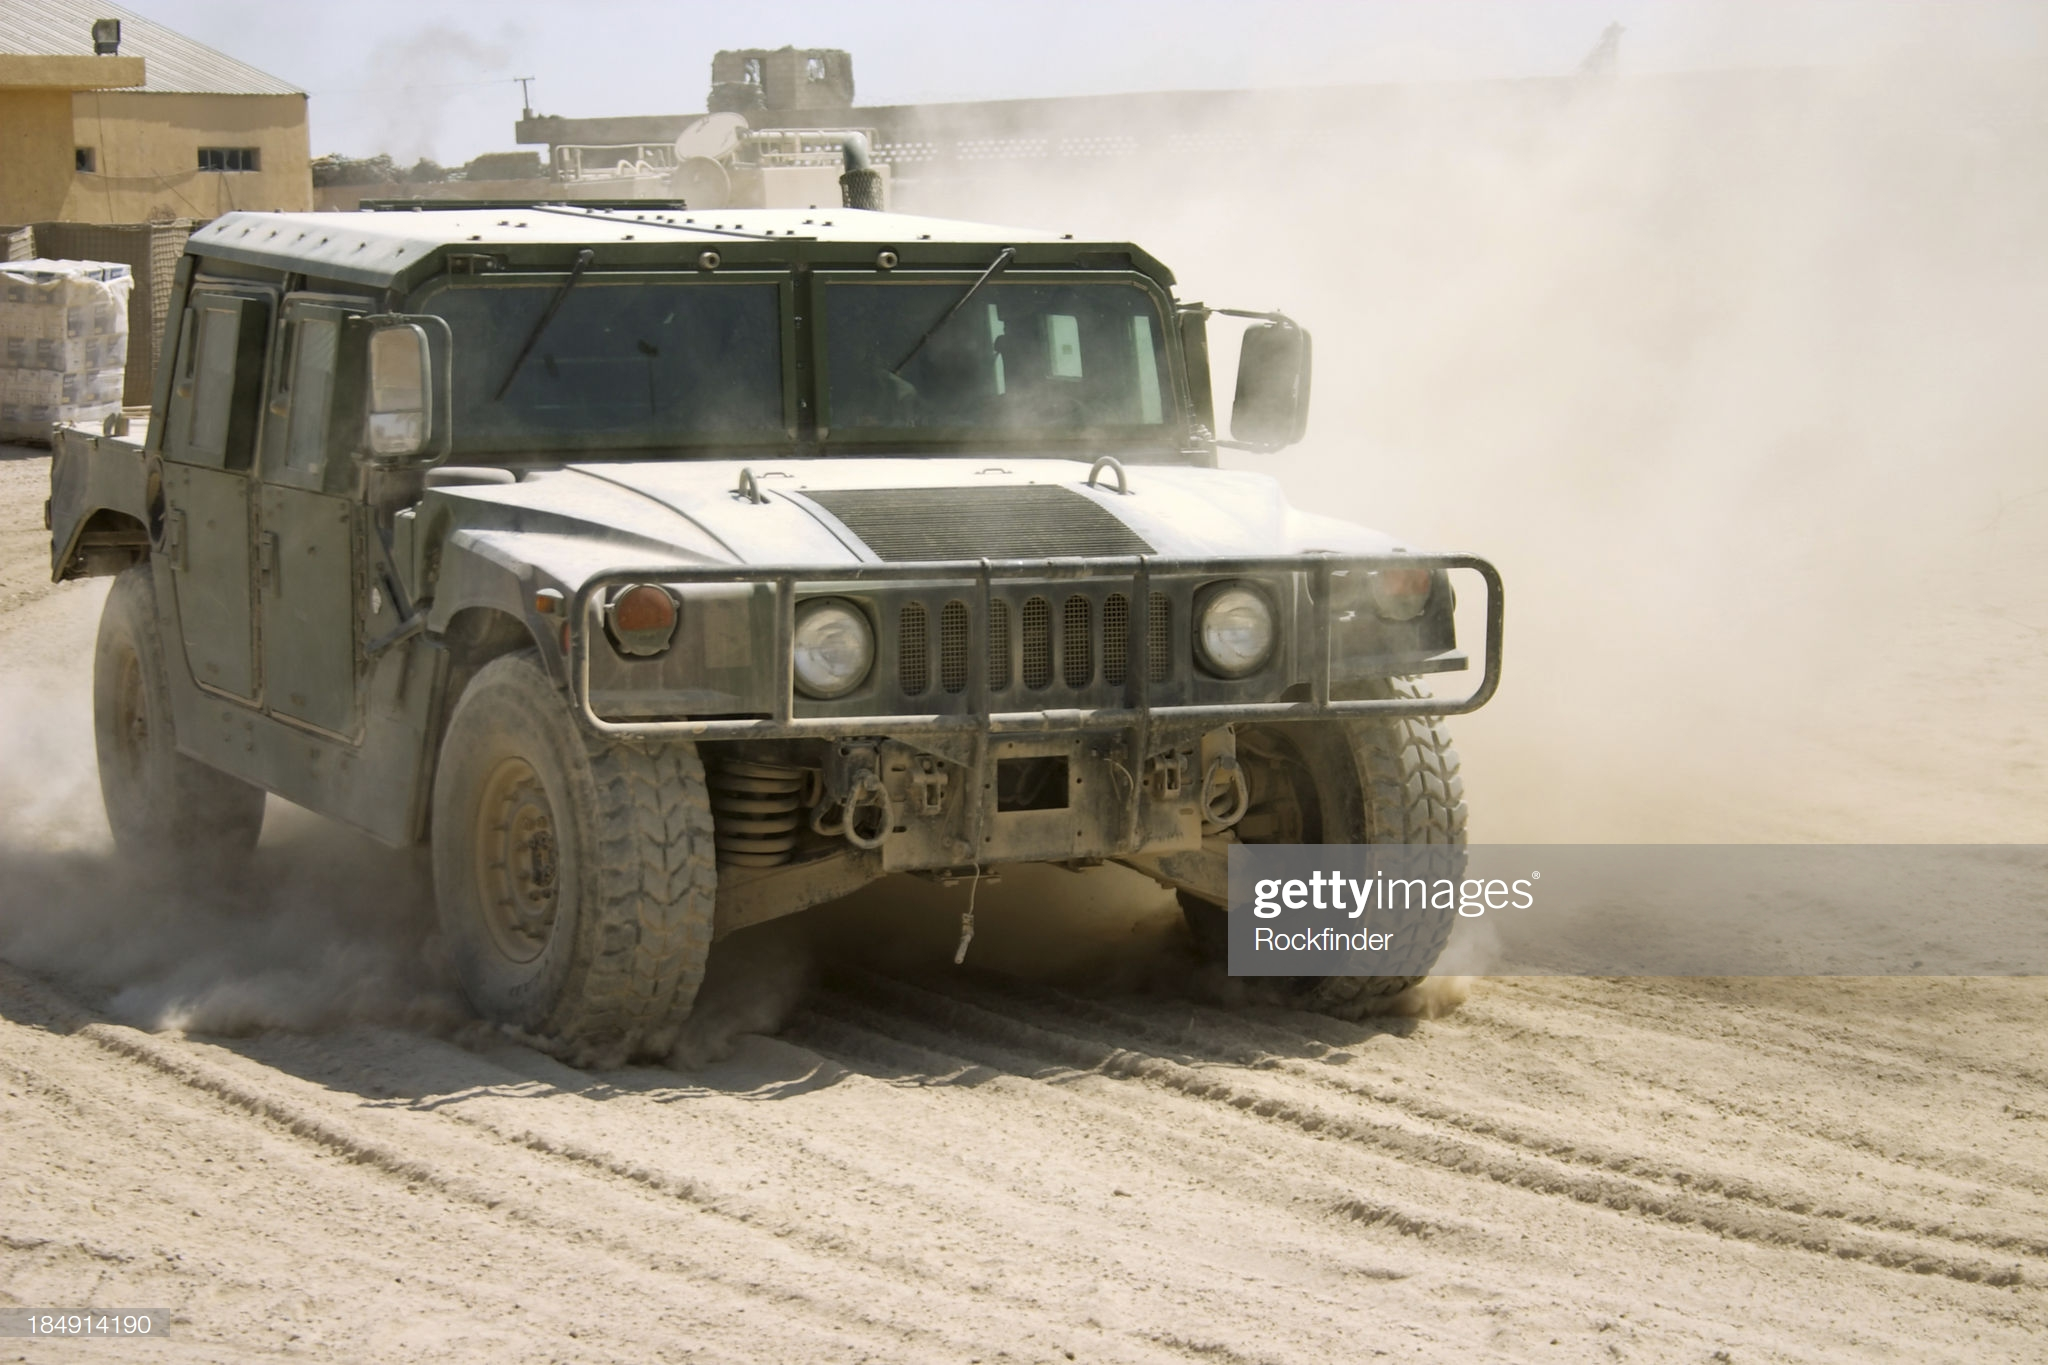hummer: (58, 203, 1523, 1044)
